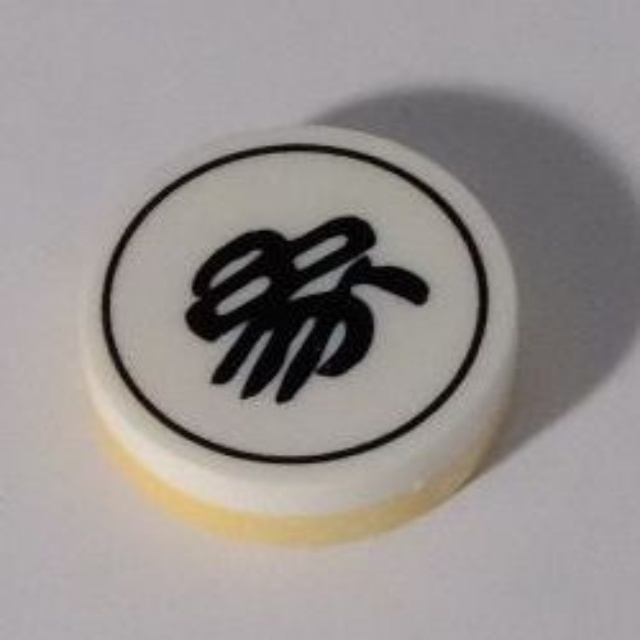black_bo: (69, 119, 525, 551)
